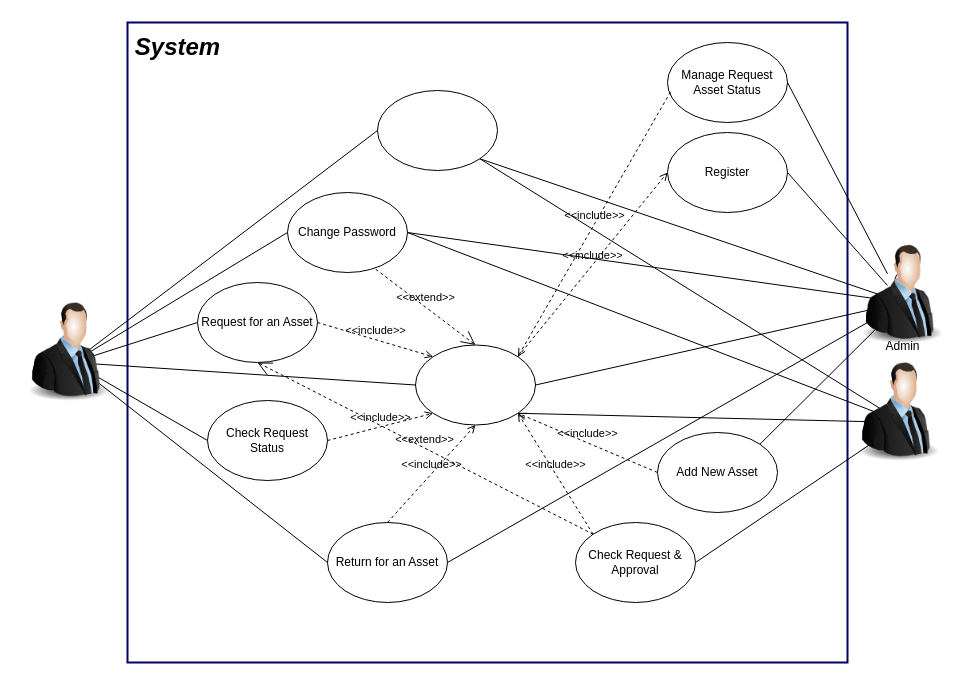
Some shapes in this 971 by 681 pixel diagram are drawn without their labels. The centre of each missing label's shape, as x and y in pixels:
Employee: the point at 72,362
Forgot Password: the point at 437,130
Login: the point at 475,384
Manager: the point at 902,422
